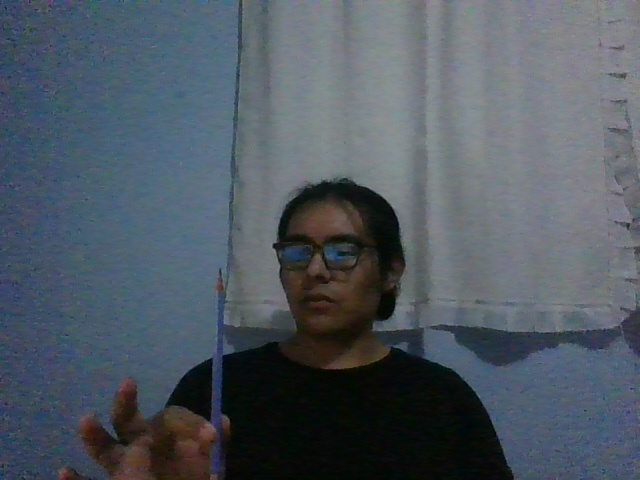lapiz: (208, 267, 226, 480)
